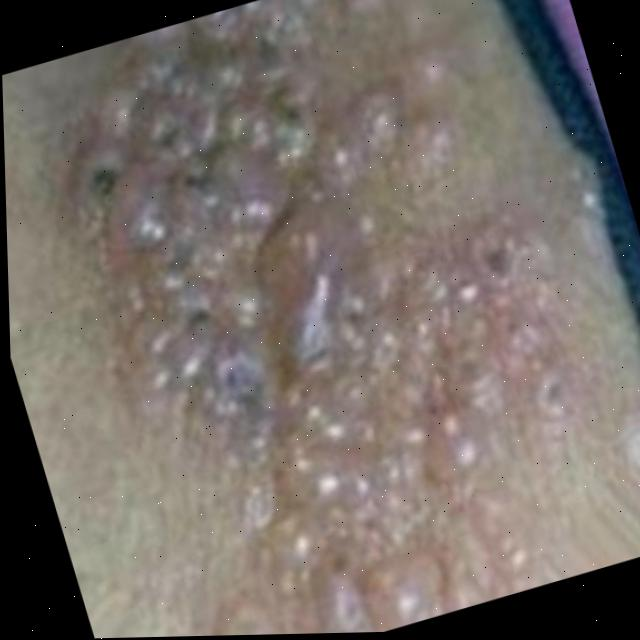Shingles: (29, 0, 640, 639)
